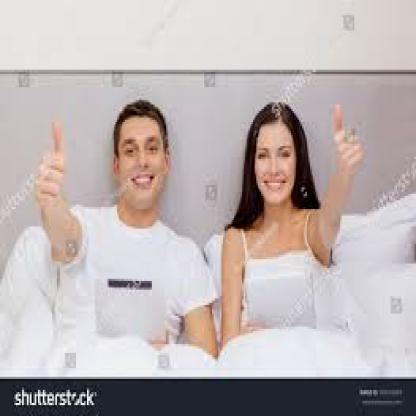Thumbs up: (319, 98, 373, 170), (36, 107, 68, 220)
